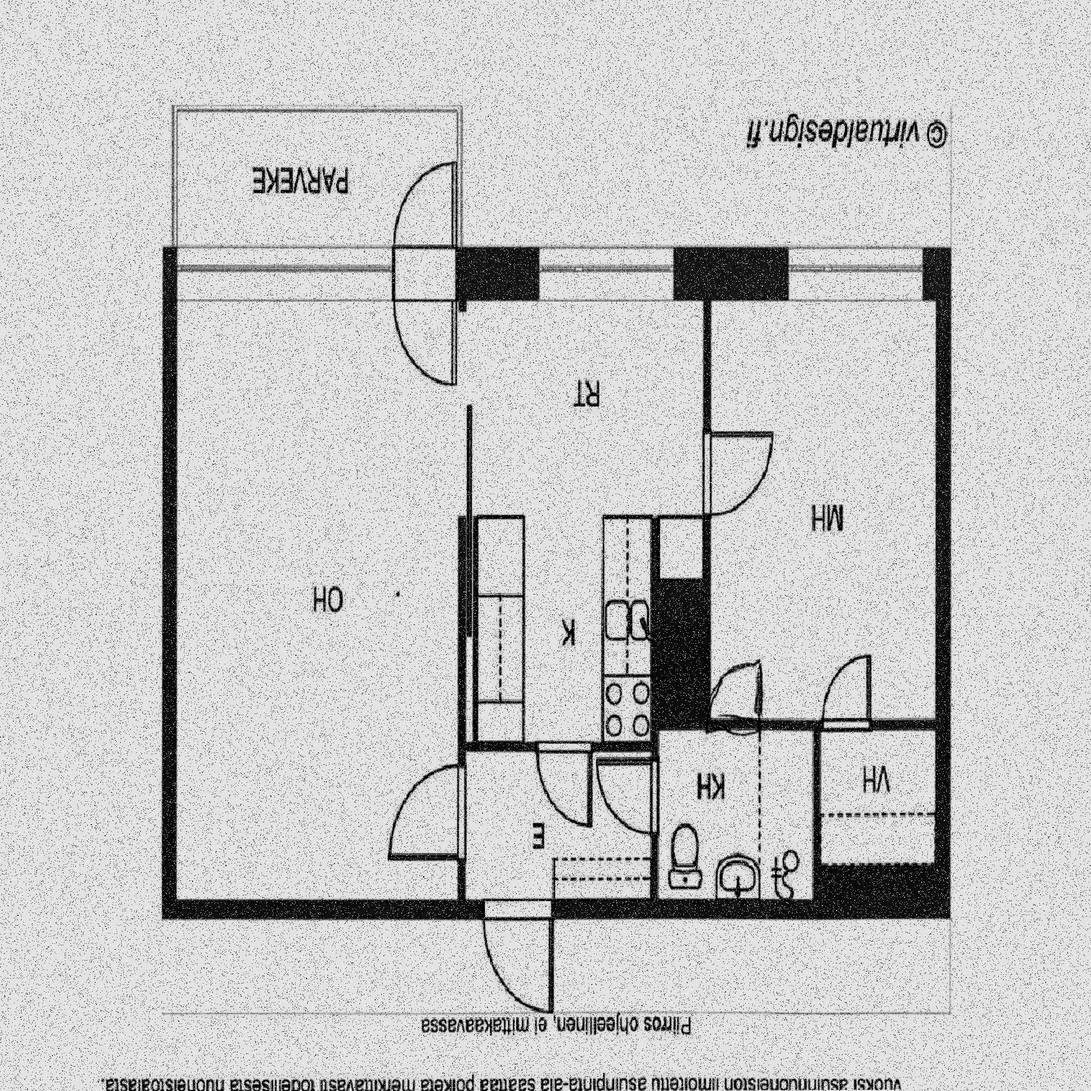wall: (162, 248, 949, 299), (162, 899, 812, 918), (935, 248, 949, 918), (162, 248, 176, 918), (650, 580, 709, 729), (812, 865, 949, 918), (457, 248, 465, 918), (702, 248, 709, 728), (456, 740, 657, 750), (650, 515, 658, 729), (650, 741, 658, 918), (812, 719, 819, 918), (812, 719, 949, 729), (702, 719, 819, 729), (650, 729, 658, 741)
